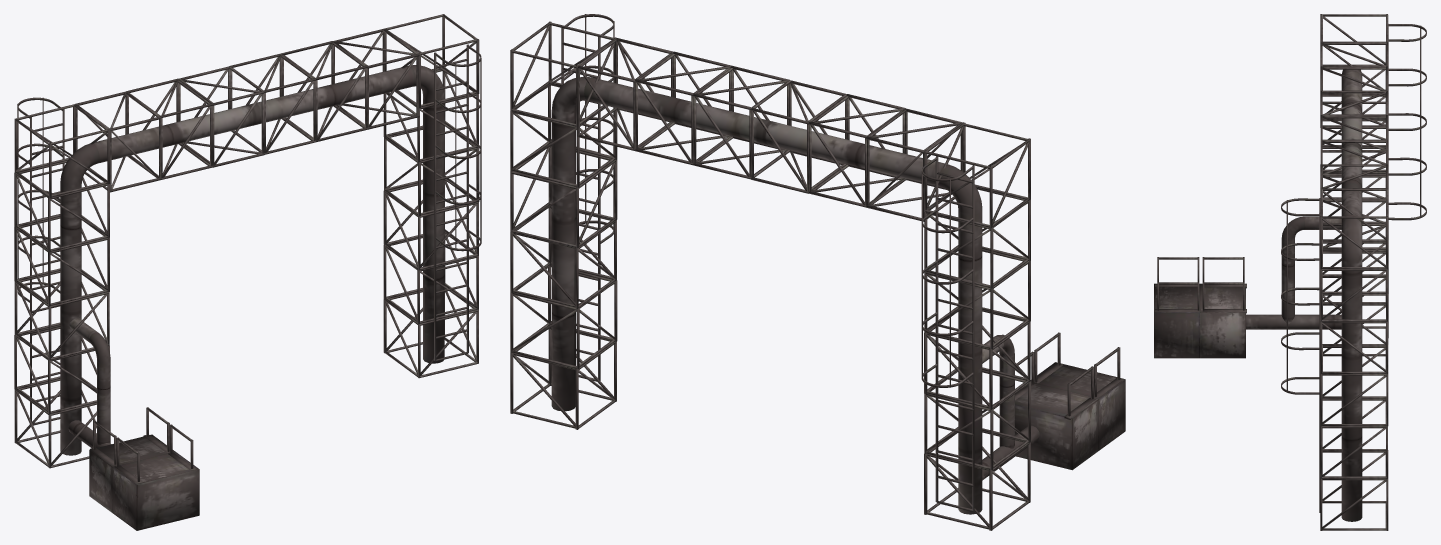
File: Iron_Rode_5.glb
3 renders of one model, left to right at view 1: azimuth 30°, elevation 25°; view 2: azimuth 150°, elevation 25°; view 3: azimuth 270°, elevation 25°, orthographic. The views are drawn at different scales.
Parts seen in each view (by area): view 1: Iron_Rode_5; view 2: Iron_Rode_5; view 3: Iron_Rode_5.
Boxes of the visible parts, bbox=[...] form: Iron_Rode_5: bbox=[14, 14, 481, 530]; Iron_Rode_5: bbox=[510, 14, 1125, 530]; Iron_Rode_5: bbox=[1154, 14, 1426, 530].
Size of the model in its own units: 14.43 by 10.53 by 8.19.
Materials: 1 (1 with a texture image).
